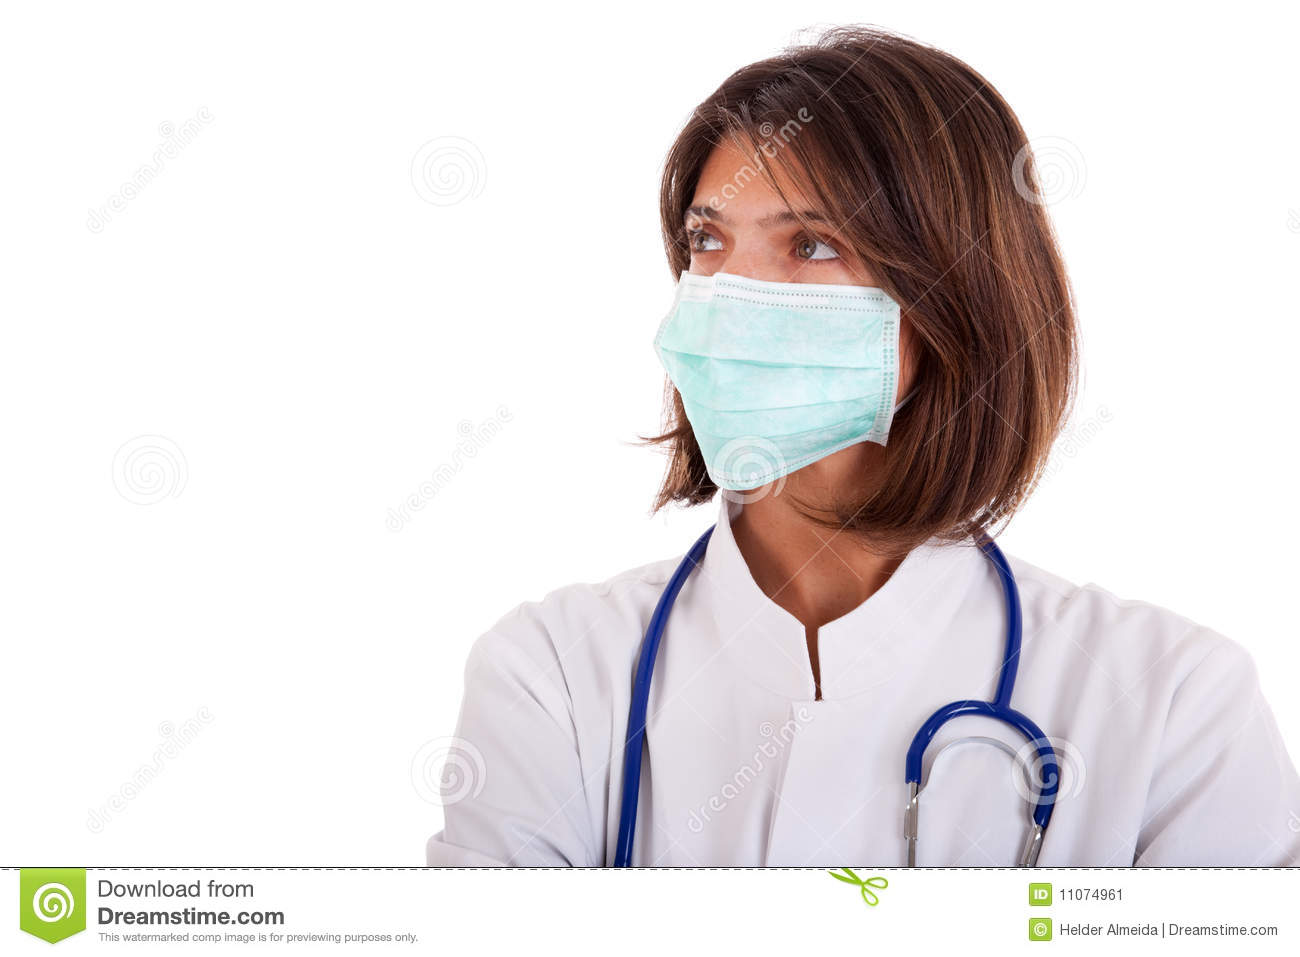mask: (647, 270, 904, 487)
